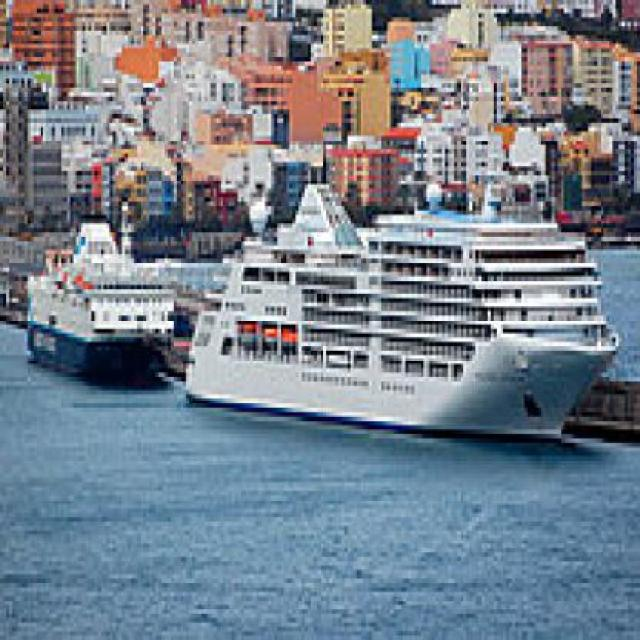cruise: (181, 168, 626, 457), (23, 207, 184, 396)
